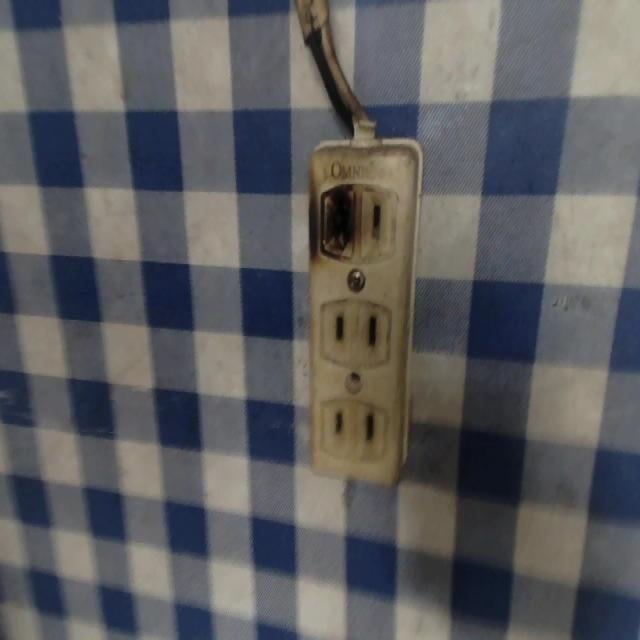-: (313, 184, 360, 260)
